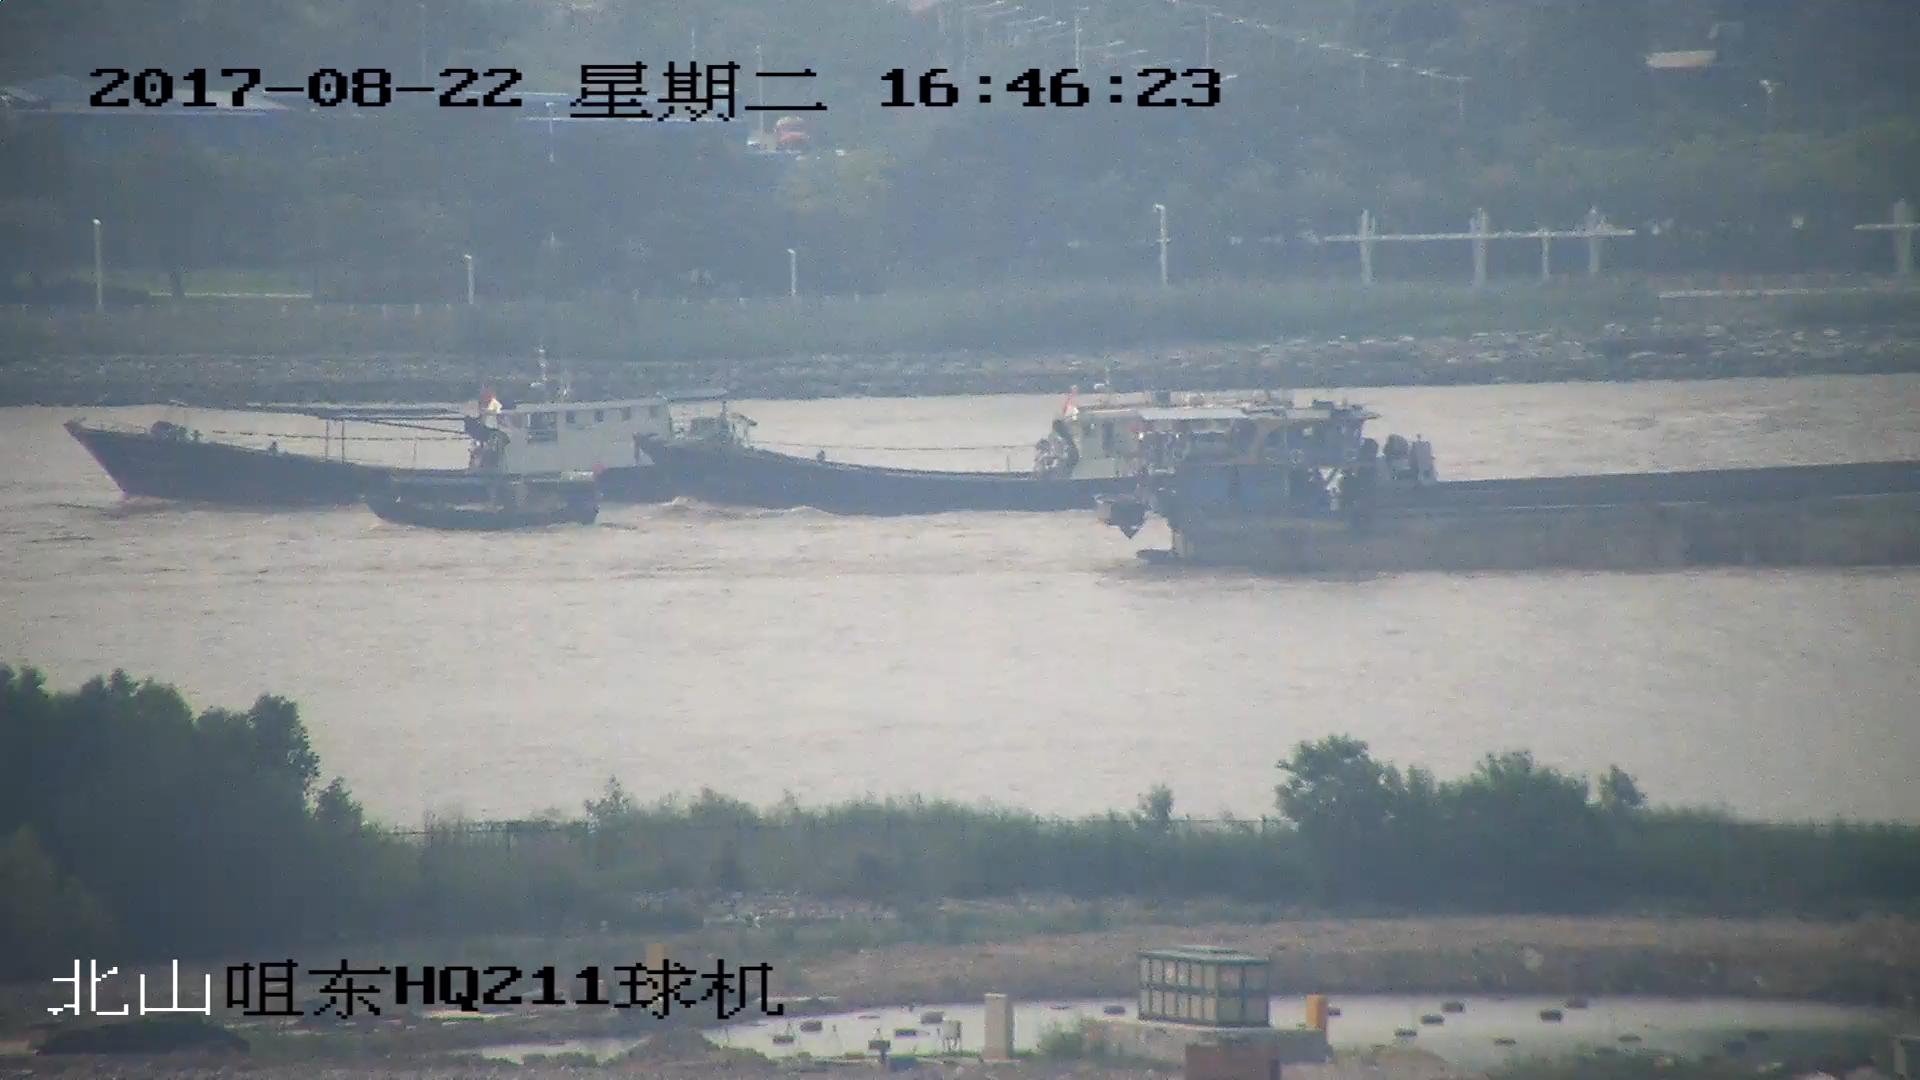bulk cargo carrier: (1101, 401, 1920, 572)
fishing boat: (642, 384, 1374, 510), (70, 380, 751, 508), (359, 467, 601, 531)
